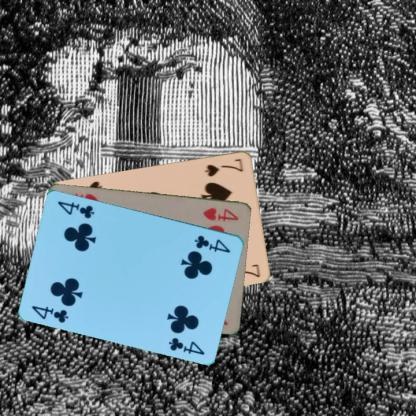4c: (192, 232, 232, 254), (29, 303, 70, 324)
4h: (200, 204, 240, 223)
7s: (203, 155, 245, 178)
